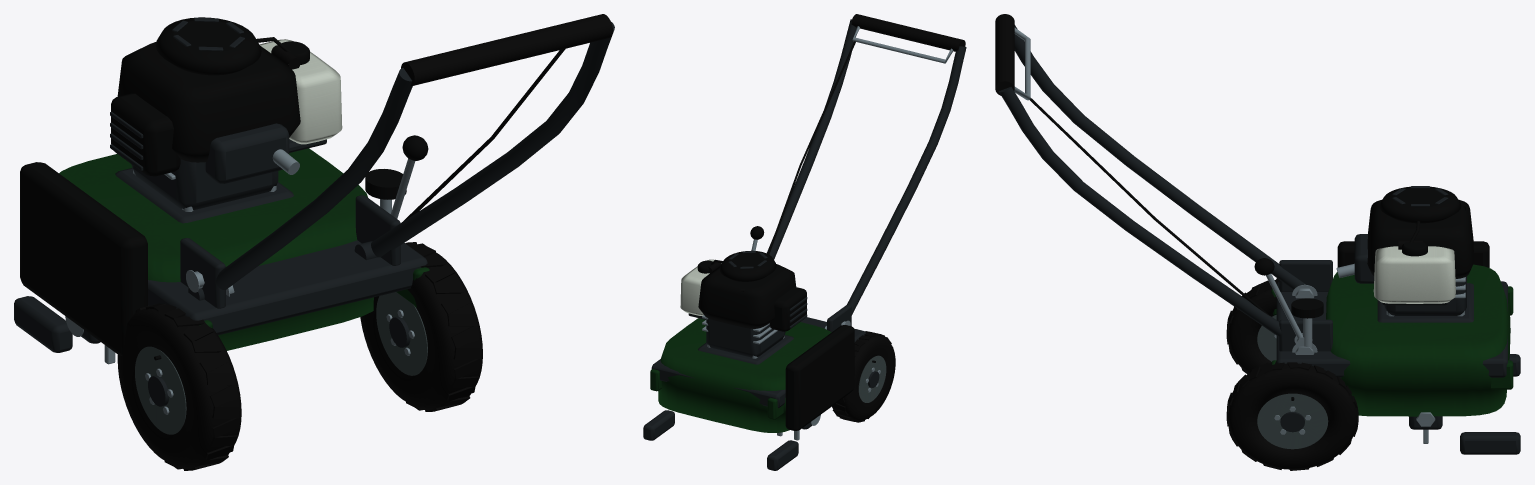
Rendered from PowerRakeDethatcher.gltf.
3 renders of one model, left to right at view 1: azimuth 30°, elevation 25°; view 2: azimuth 150°, elevation 25°; view 3: azimuth 270°, elevation 25°, orthographic. The views are drawn at different scales.
Visible parts, largest first — view 1: PowerRakeDethatcher__Body, PowerRakeDethatcher__Wheel_Rear-1, PowerRakeDethatcher__Wheel_Rear1; view 2: PowerRakeDethatcher__Body, PowerRakeDethatcher__Wheel_Rear-1; view 3: PowerRakeDethatcher__Body, PowerRakeDethatcher__Wheel_Rear1, PowerRakeDethatcher__Wheel_Rear-1.
Part boxes in pixels (x1=…): PowerRakeDethatcher__Body: x1=14, y1=14, x2=614, y2=355; PowerRakeDethatcher__Wheel_Rear-1: x1=117, y1=303, x2=241, y2=470; PowerRakeDethatcher__Wheel_Rear1: x1=360, y1=242, x2=482, y2=411; PowerRakeDethatcher__Body: x1=643, y1=14, x2=966, y2=470; PowerRakeDethatcher__Wheel_Rear-1: x1=832, y1=331, x2=895, y2=422; PowerRakeDethatcher__Body: x1=995, y1=14, x2=1520, y2=454; PowerRakeDethatcher__Wheel_Rear1: x1=1226, y1=361, x2=1358, y2=470; PowerRakeDethatcher__Wheel_Rear-1: x1=1226, y1=278, x2=1279, y2=374.
Bounding box in the file's own units: 0.56 × 1 × 1.26.
1 material, 1 textured.
